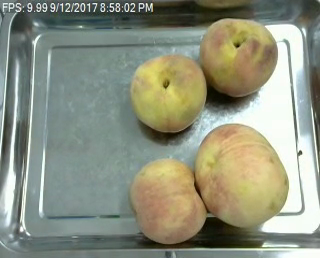Peach: (194, 122, 288, 231), (130, 157, 205, 245), (198, 17, 279, 97), (129, 53, 207, 133)
